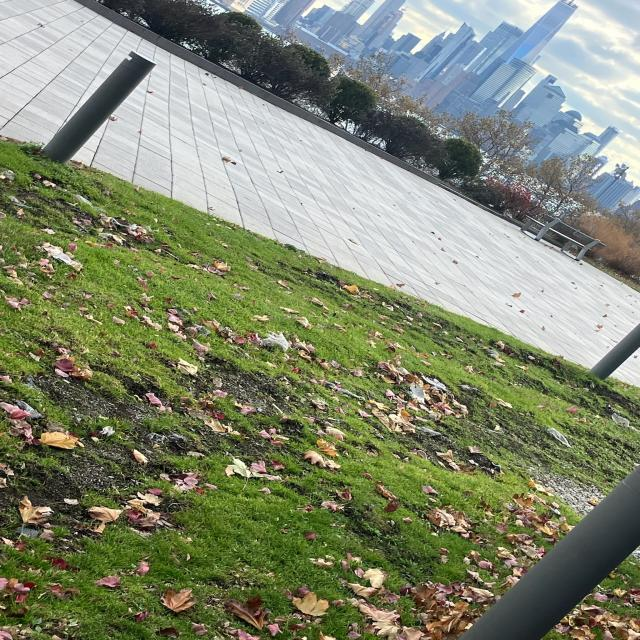WTC: (483, 0, 587, 74)
